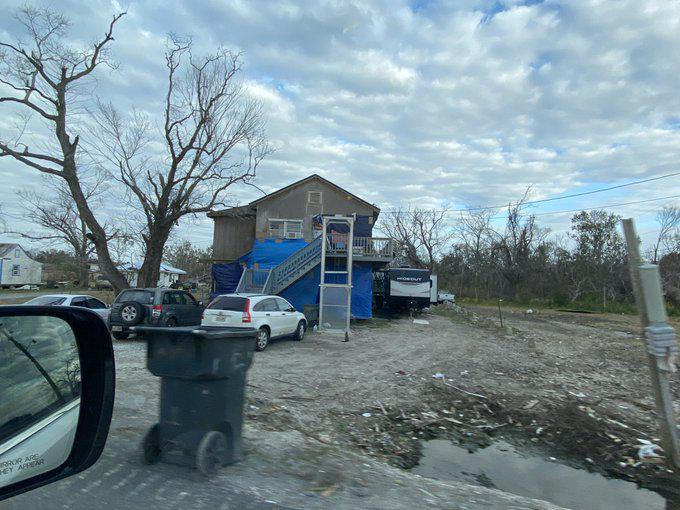minor: (201, 164, 405, 338)
